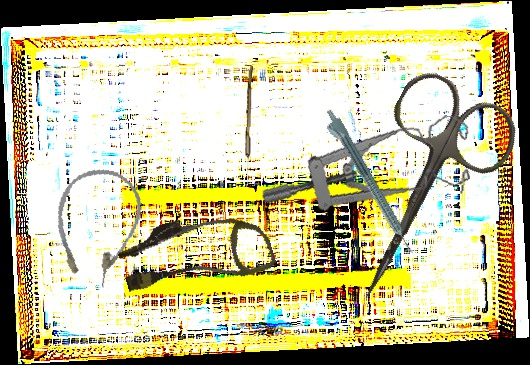Cannula: (113, 195, 278, 311), (43, 161, 149, 293)
Handpiece: (317, 106, 417, 260)
Iris Scissors: (308, 63, 528, 327)
Speculum: (260, 88, 479, 235)
Surgical Spoon: (244, 65, 253, 189)
